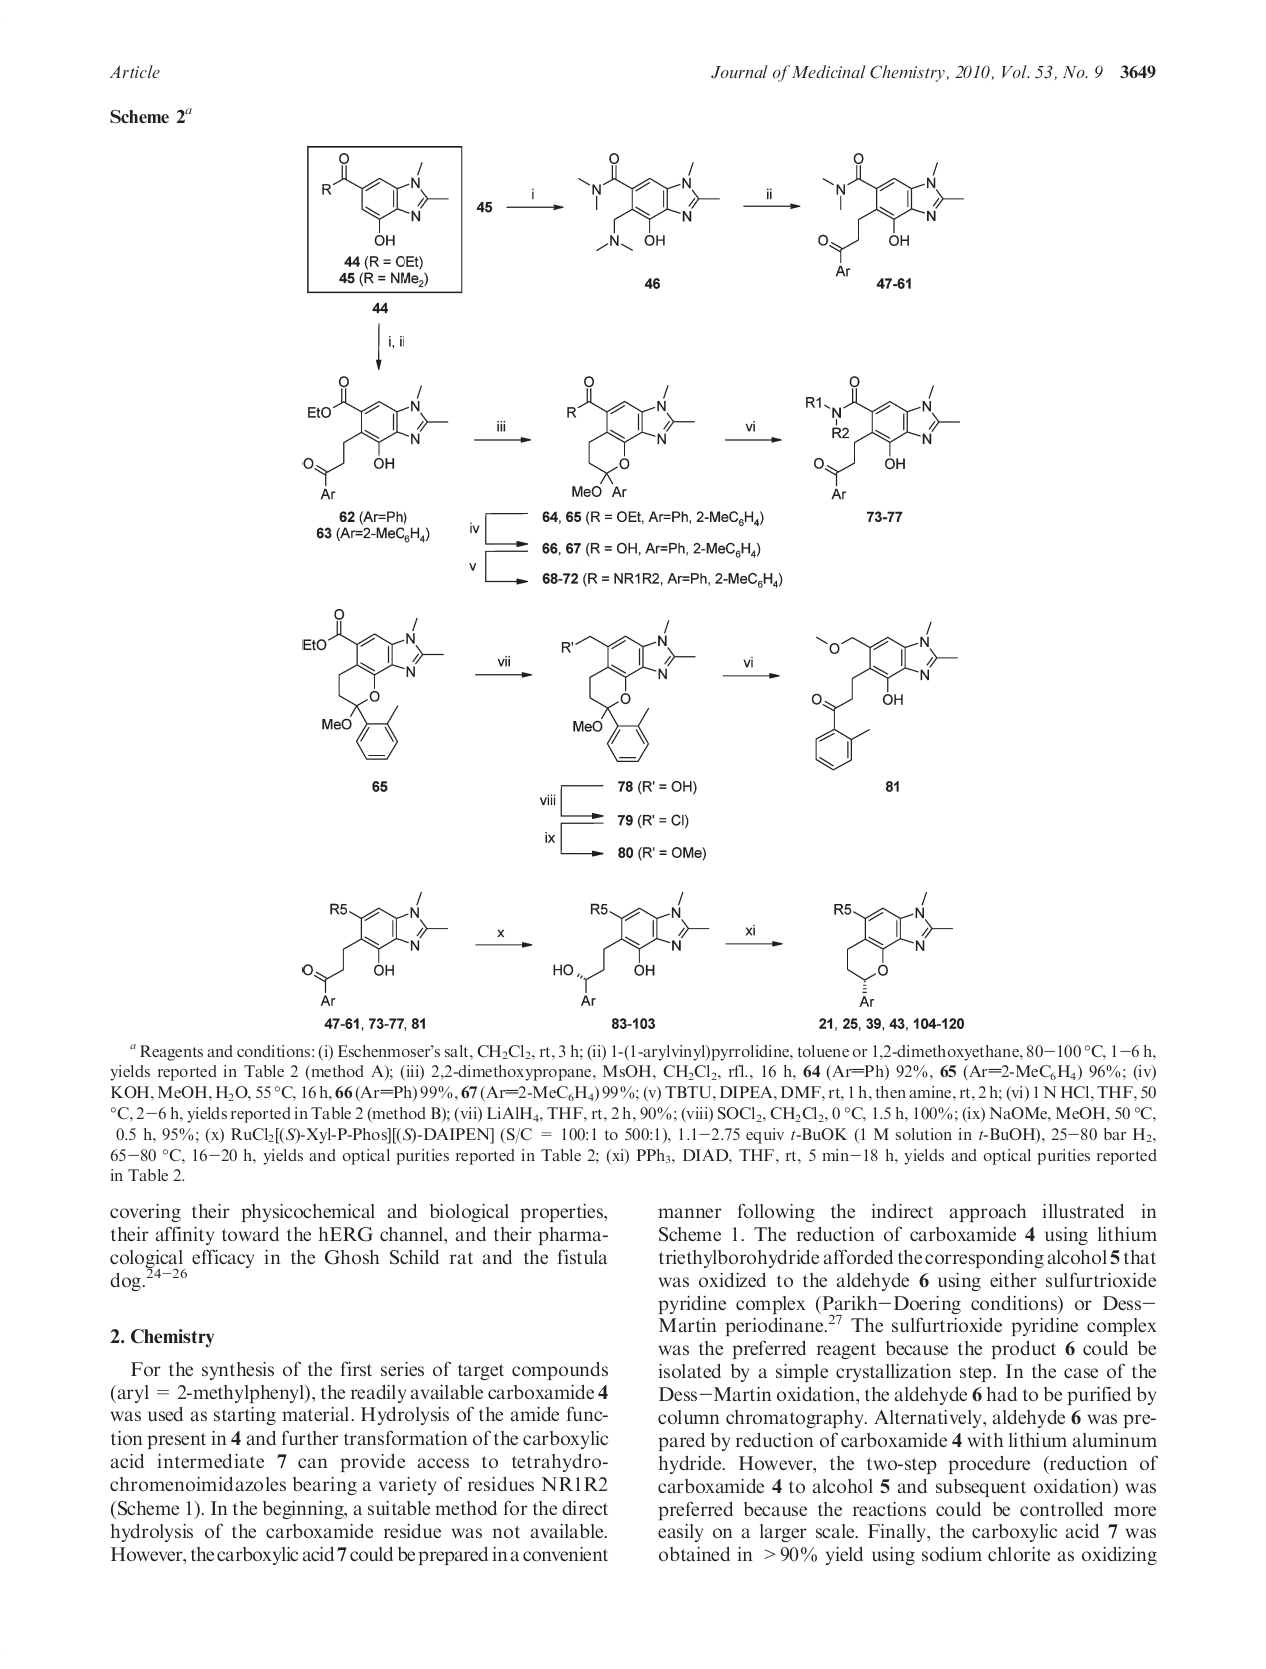exist_molecular: (301, 602, 451, 767), (805, 622, 965, 774), (799, 367, 965, 504), (555, 616, 702, 767), (293, 372, 461, 501), (811, 152, 973, 277), (544, 888, 711, 1009), (553, 370, 699, 501), (302, 888, 453, 1011), (823, 884, 957, 1012), (569, 148, 723, 255), (306, 149, 448, 247)
